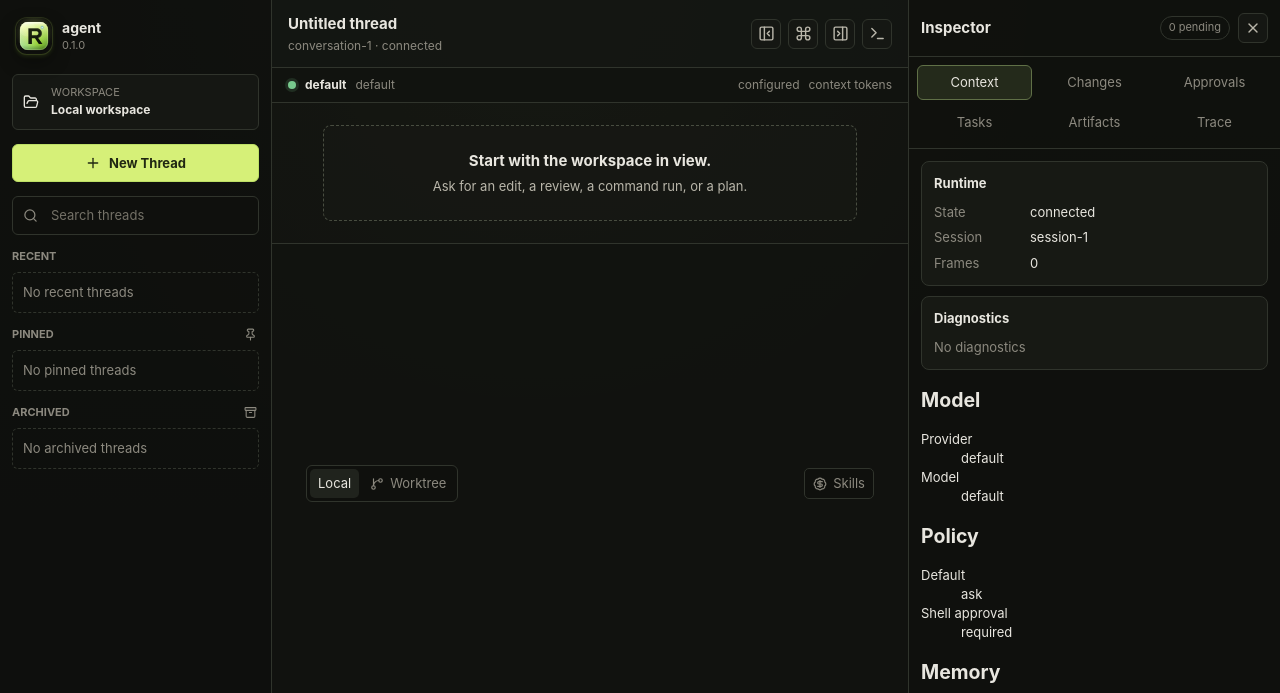
it: memory UI › shows memory panel in the tasks inspector tab
This screenshot has width=1280, height=693.
What coordinates should you click on to do the following:
click the tab "Tasks"
I would click on:
 (974, 122)
Its box is [917, 105, 1032, 140].
(page scrolled)
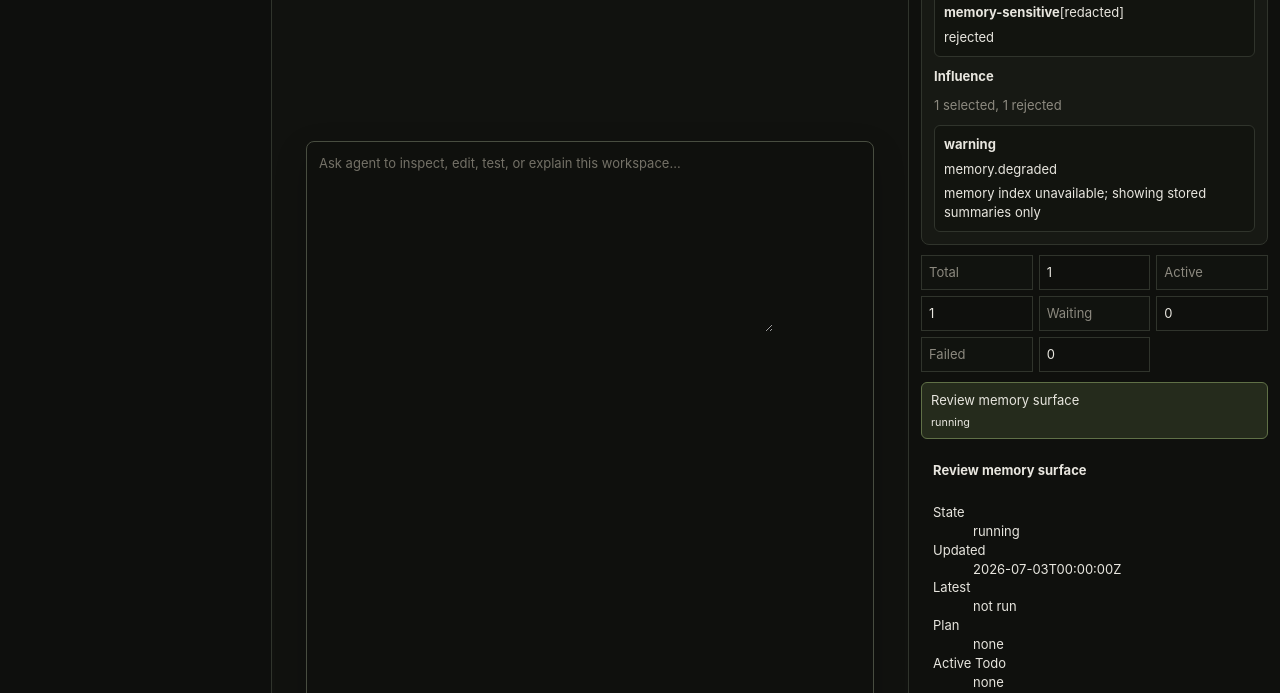
Expected: the text "Review memory surface" is shown, [931, 392, 1079, 408]
